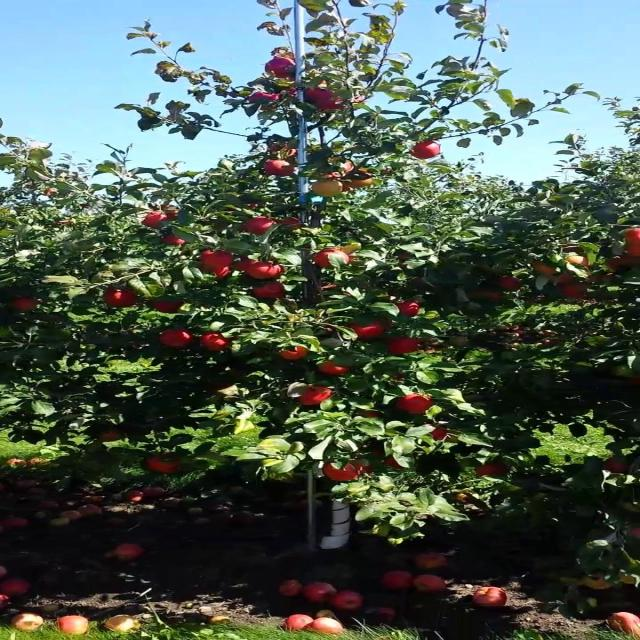apple: (326, 460, 363, 483), (397, 396, 434, 416), (248, 260, 284, 280), (298, 388, 334, 407), (106, 288, 140, 308), (319, 248, 352, 268), (348, 324, 386, 340), (205, 332, 235, 352), (326, 160, 356, 180), (148, 456, 183, 473), (198, 252, 235, 268), (262, 160, 299, 176), (412, 140, 441, 160), (248, 216, 276, 236), (312, 180, 343, 197), (163, 332, 194, 348), (319, 360, 350, 376), (248, 92, 283, 106), (255, 284, 284, 300), (319, 96, 348, 112), (348, 172, 377, 188), (390, 340, 420, 355), (269, 144, 299, 159), (269, 60, 297, 76), (561, 284, 588, 300), (276, 216, 306, 230), (582, 576, 612, 590), (269, 64, 297, 79), (476, 464, 508, 477), (156, 300, 185, 314), (305, 88, 334, 102), (625, 228, 639, 256), (13, 300, 41, 312), (205, 268, 233, 280), (604, 460, 629, 473), (284, 348, 311, 360), (355, 460, 377, 474), (397, 304, 420, 317), (604, 256, 624, 270), (383, 456, 404, 469), (148, 212, 165, 228), (163, 204, 180, 219), (163, 236, 185, 247), (99, 432, 121, 443), (234, 260, 256, 271), (568, 256, 590, 267), (504, 276, 521, 290), (618, 256, 638, 267), (476, 292, 501, 300), (540, 264, 556, 276), (212, 384, 235, 392), (433, 428, 448, 440), (362, 412, 384, 420), (618, 368, 635, 377), (397, 252, 412, 261), (561, 276, 576, 284), (355, 96, 368, 105), (589, 276, 608, 282)
